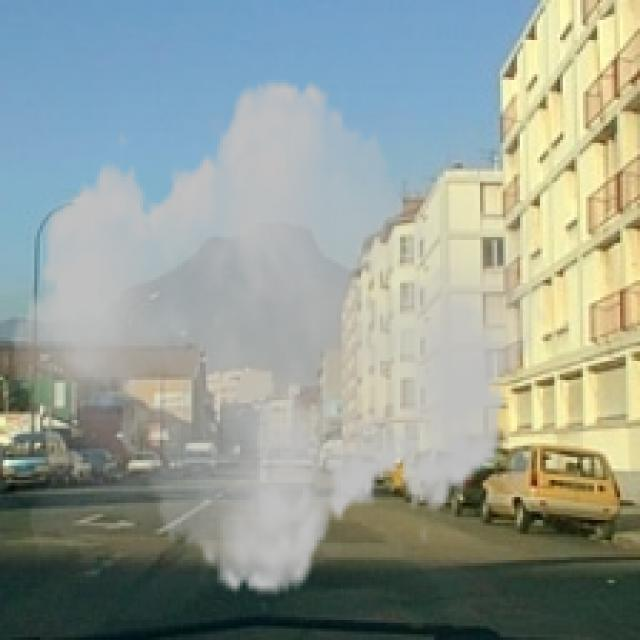smoke: (0, 57, 546, 617)
